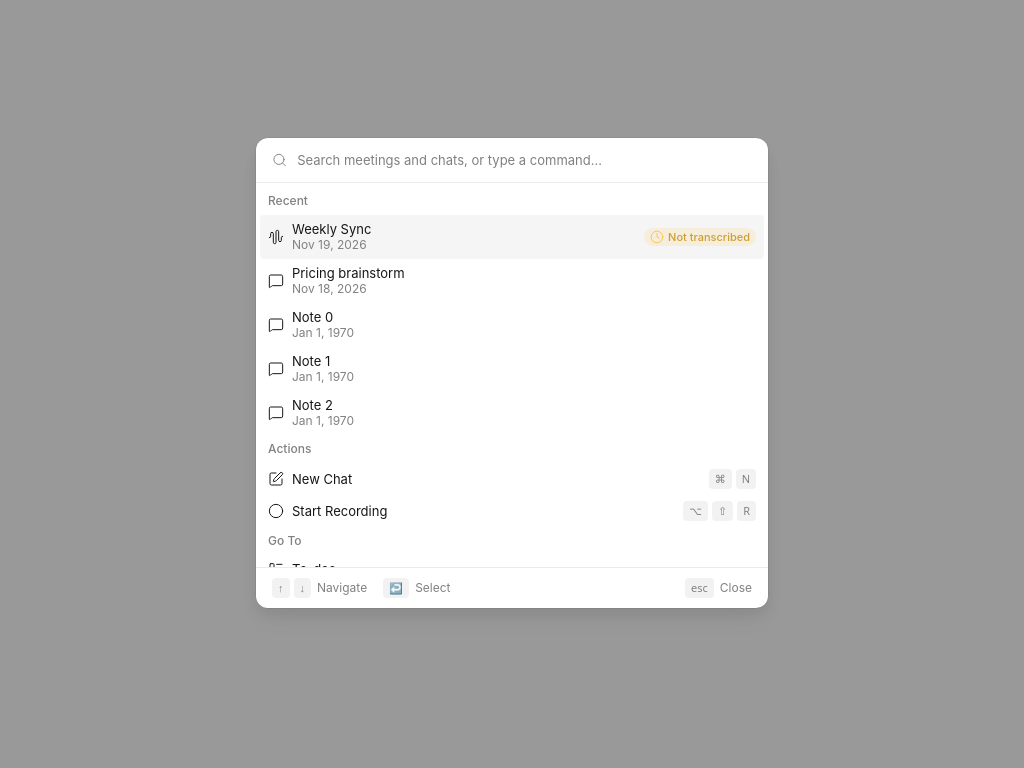
Test case: CommandPalette › says when the search index cannot be read, instead of claiming no results
The image size is (1024, 768).
Type "zzzz" into the dropdown. click: (525, 160)
box: [297,138,752,182]
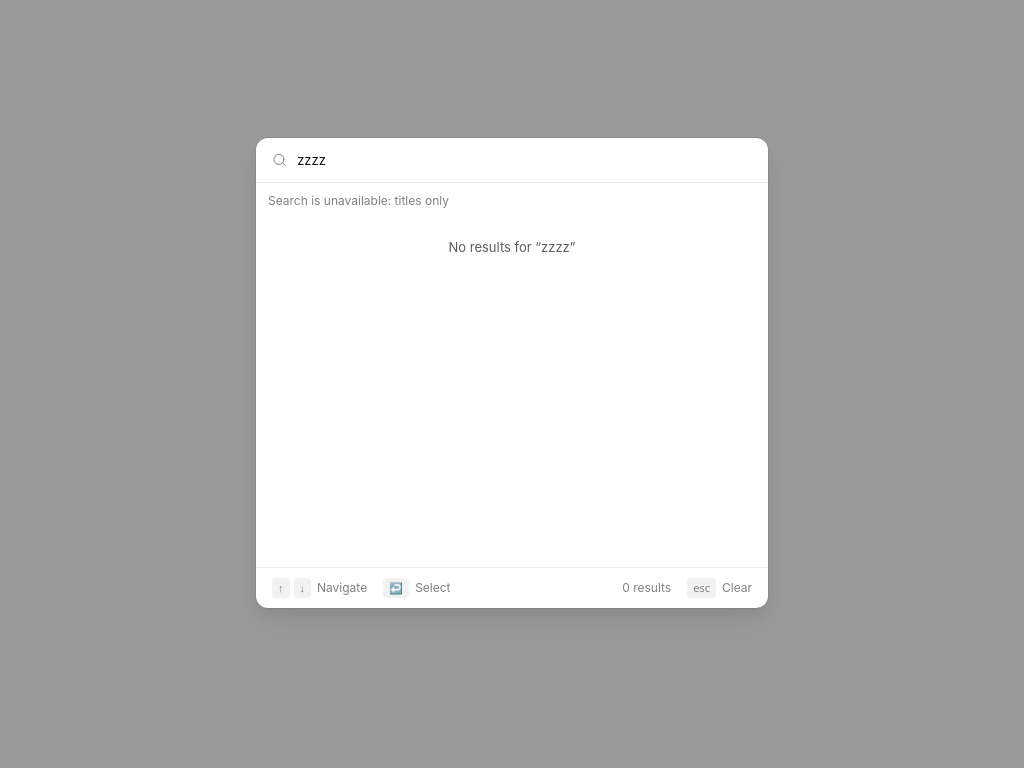
Expected: the text "Search is unavailable: titles only" is shown, [268,193,449,208]
